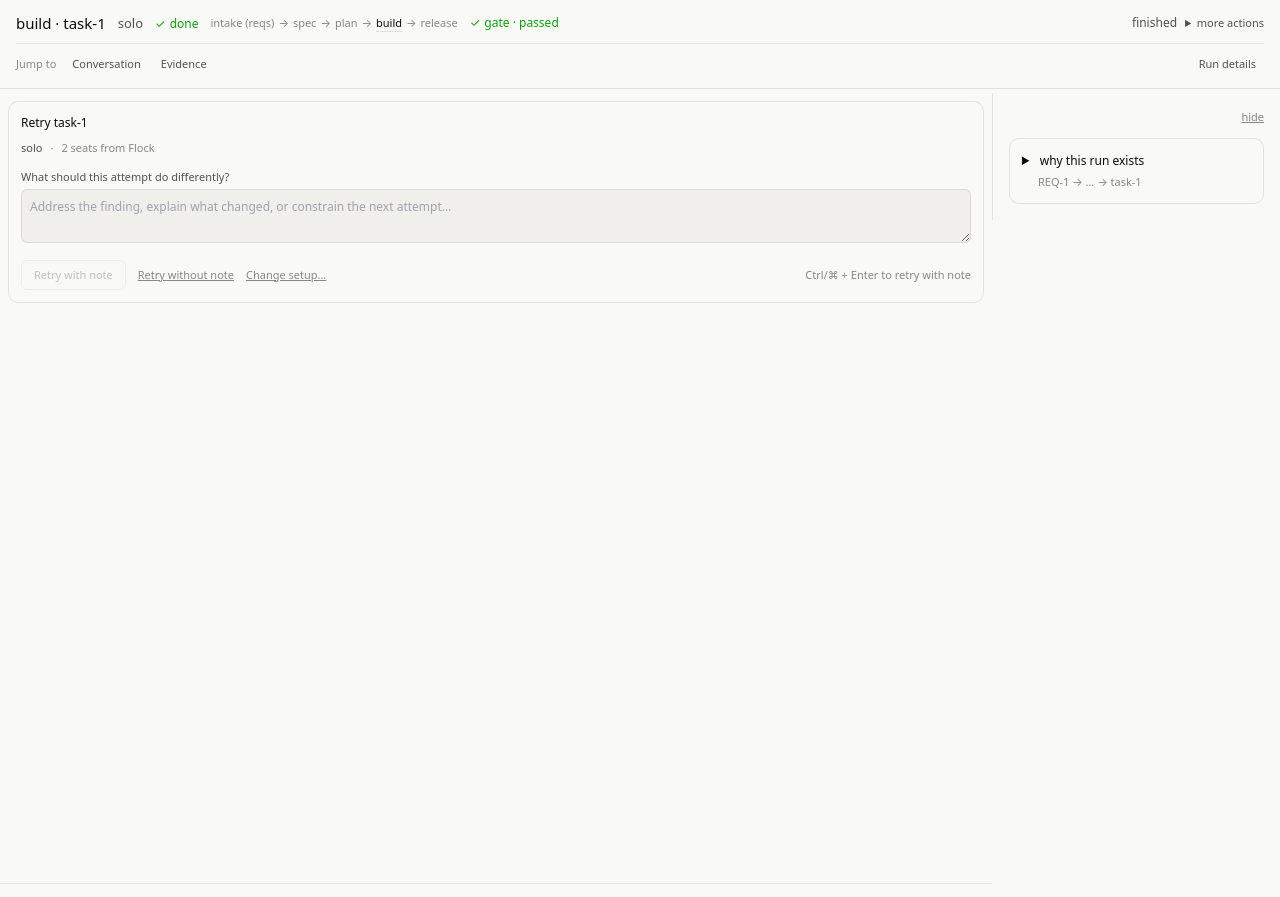
RunView origin panel › quotes the requirement and links every document in the breadcrumb
Check: the text with test id "run-origin-summary" reads "REQ-1 → … → task-1", box [1038,174,1142,189]
Click the heading with test id "run-origin-summary" at (1091, 170), box [1038,152,1144,189]
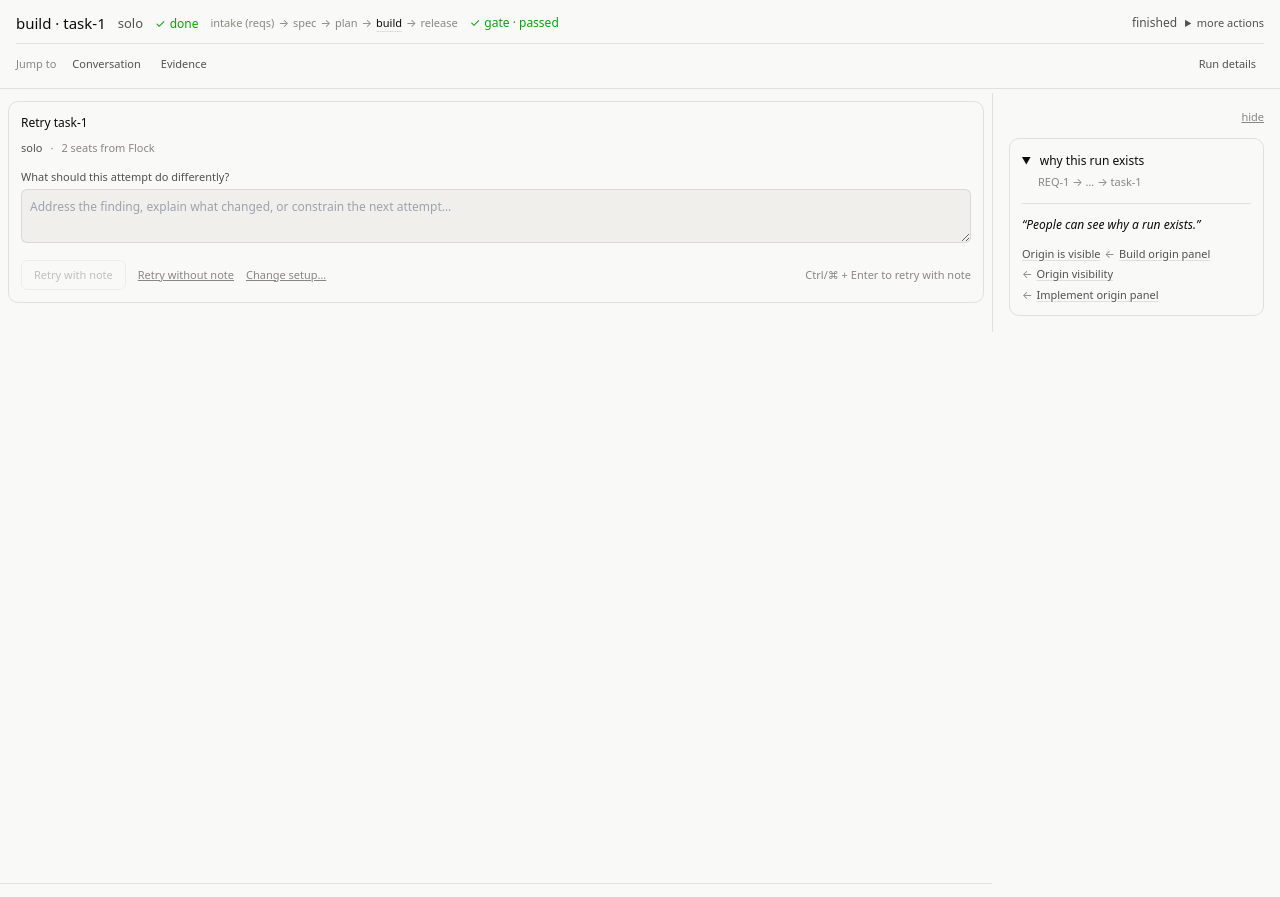
Check: the text "“People can see why a run exists.”" is shown, box [1022,216,1200,232]
Check: the link to "#/cycle/intake/REQ-1" reads "Origin is visible", box [1022,246,1100,262]
Check: the link to "#/cycle/plan/plan-1" reads "Build origin panel", box [1119,246,1210,262]
